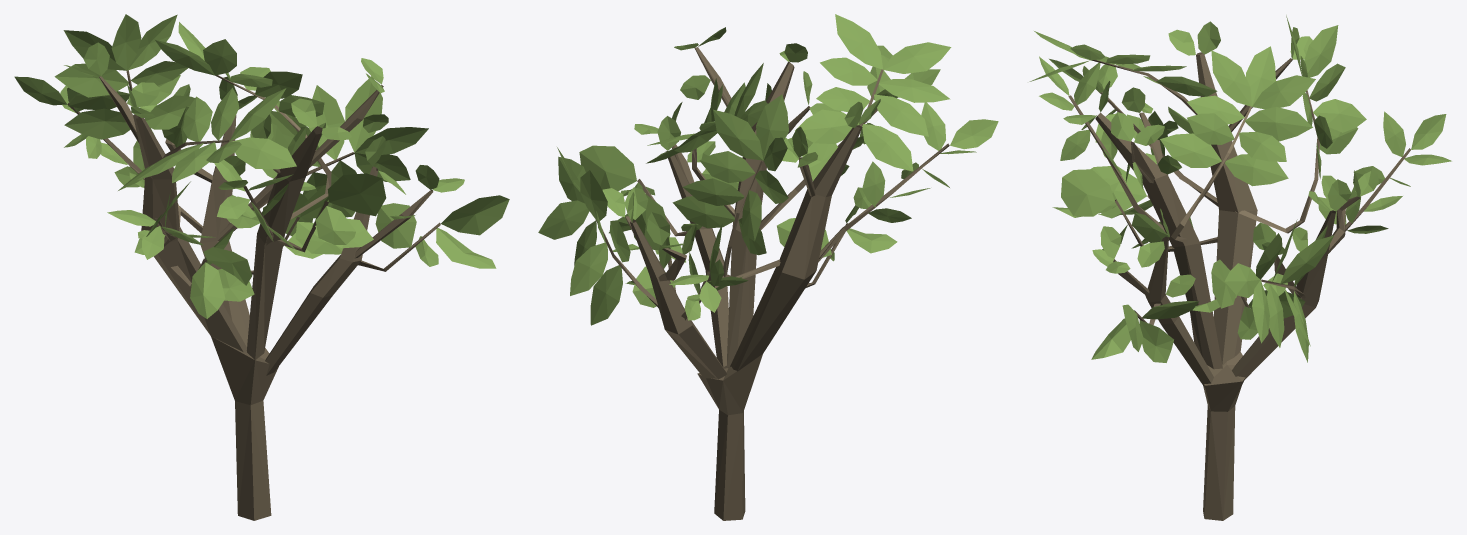
Rendered from Cherry_5_4.fbx.
3 renders of one model, left to right at view 1: azimuth 30°, elevation 25°; view 2: azimuth 150°, elevation 25°; view 3: azimuth 270°, elevation 25°, orthographic. The views are drawn at different scales.
Visible parts, largest first — view 1: Cherry_5_4; view 2: Cherry_5_4; view 3: Cherry_5_4.
Boxes of the visible parts, <box> form: Cherry_5_4: <box>14,14,509,520</box>; Cherry_5_4: <box>538,14,998,520</box>; Cherry_5_4: <box>1029,15,1451,520</box>.
Size of the model in its own units: 323 by 371 by 311.
